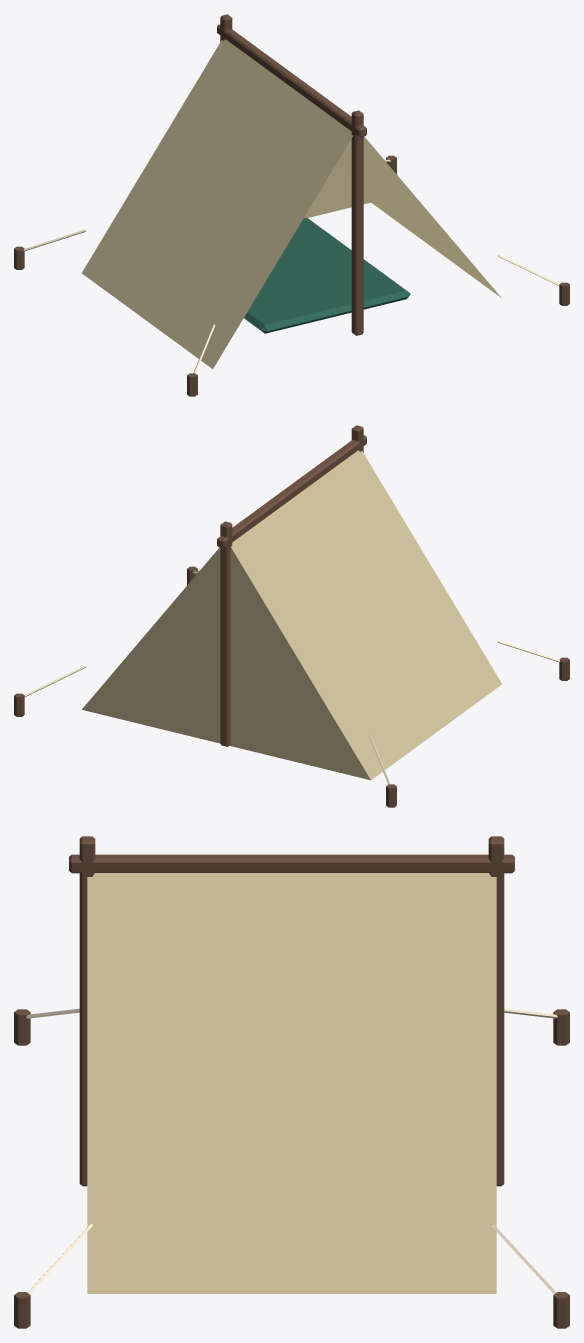
The model's file is tent.glb.
The picture shows the model from 3 angles, top to bottom: view 1: azimuth 30°, elevation 25°; view 2: azimuth 150°, elevation 25°; view 3: azimuth 270°, elevation 25°; orthographic projection. The views are drawn at different scales.
Parts seen in each view (by area): view 1: tent-cloth, sleeping-mat, tent-pole, tent-ridge; view 2: tent-cloth, tent-pole.001, tent-ridge; view 3: tent-cloth, tent-ridge, tent-pole, tent-pole.001.
Part boxes in pixels (box(x1,y1,x2,y2)): tent-cloth: box(82, 39, 501, 368); sleeping-mat: box(244, 217, 410, 333); tent-pole: box(351, 110, 363, 335); tent-ridge: box(217, 24, 366, 137); tent-cloth: box(82, 450, 501, 780); tent-pole.001: box(220, 521, 232, 746); tent-ridge: box(217, 435, 366, 548); tent-cloth: box(87, 873, 496, 1293); tent-ridge: box(69, 854, 514, 873); tent-pole: box(79, 836, 95, 1186); tent-pole.001: box(488, 836, 504, 1186).
Size of the model in its own units: 3.68 by 2.05 by 2.99.
